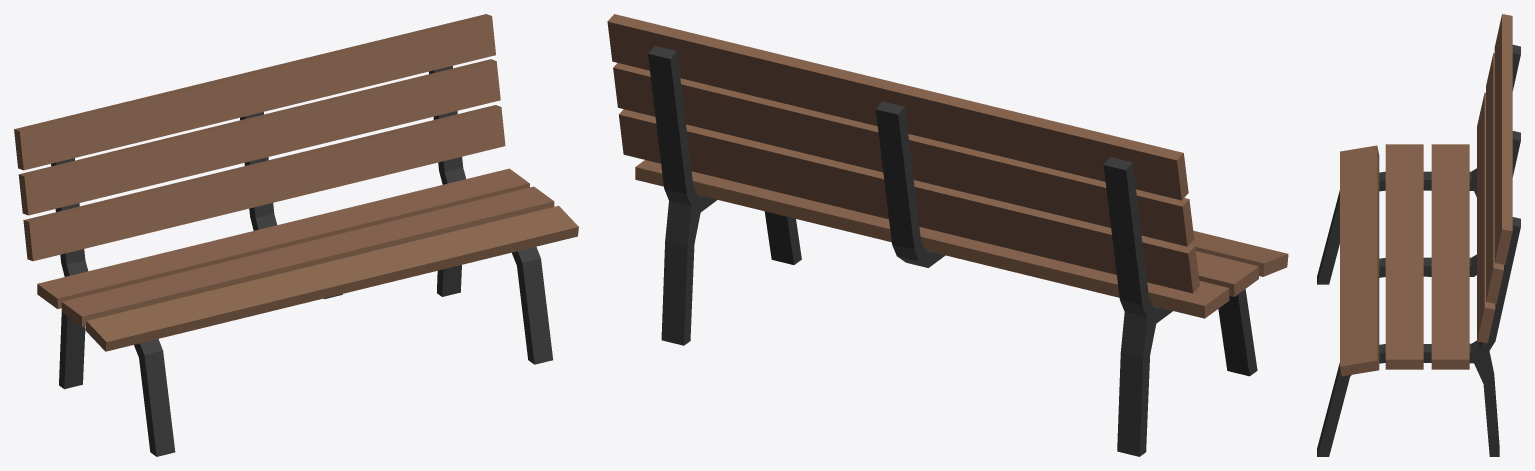
Rendered from park_bench.glb.
The picture shows the model from 3 angles, left to right: view 1: azimuth 30°, elevation 25°; view 2: azimuth 150°, elevation 25°; view 3: azimuth 270°, elevation 25°; orthographic projection. The views are drawn at different scales.
Visible parts, largest first — view 1: Plane.004, Plane.005, Plane.003, Plane.002, Plane, Plane.001, Cube.001, Cube.003, Cube; view 2: Plane.005, Plane.003, Plane.004, Plane.001, Cube.001, Cube.003, Cube, Plane.002, Plane; view 3: Plane.002, Plane, Plane.001, Plane.005, Cube.003, Plane.003, Plane.004, Cube.001, Cube.
Part boxes in pixels (x1,y1,x2,y2): Plane.004: (18,59,500,215); Plane.005: (14,14,495,170); Plane.003: (23,105,505,261); Plane.002: (85,205,578,351); Plane: (61,186,554,326); Plane.001: (37,168,529,308); Cube.001: (51,158,175,456); Cube.003: (429,66,553,364); Cube: (240,112,342,299); Plane.005: (607,14,1188,200); Plane.003: (619,109,1199,293); Plane.004: (613,63,1194,246); Plane.001: (635,160,1229,318); Cube.001: (1103,157,1257,456); Cube.003: (648,46,801,345); Cube: (875,101,945,267); Plane.002: (1189,230,1288,276); Plane: (1195,251,1258,296); Plane.002: (1340,145,1379,376); Plane: (1385,144,1423,369); Plane.001: (1431,144,1469,369); Plane.005: (1494,14,1512,264); Cube.003: (1317,217,1520,456); Plane.003: (1477,92,1495,343); Plane.004: (1486,53,1503,303); Cube.001: (1317,44,1520,284); Cube: (1379,131,1520,277).
Bounding box in the file's own units: 2 × 1.06 × 0.8002.
